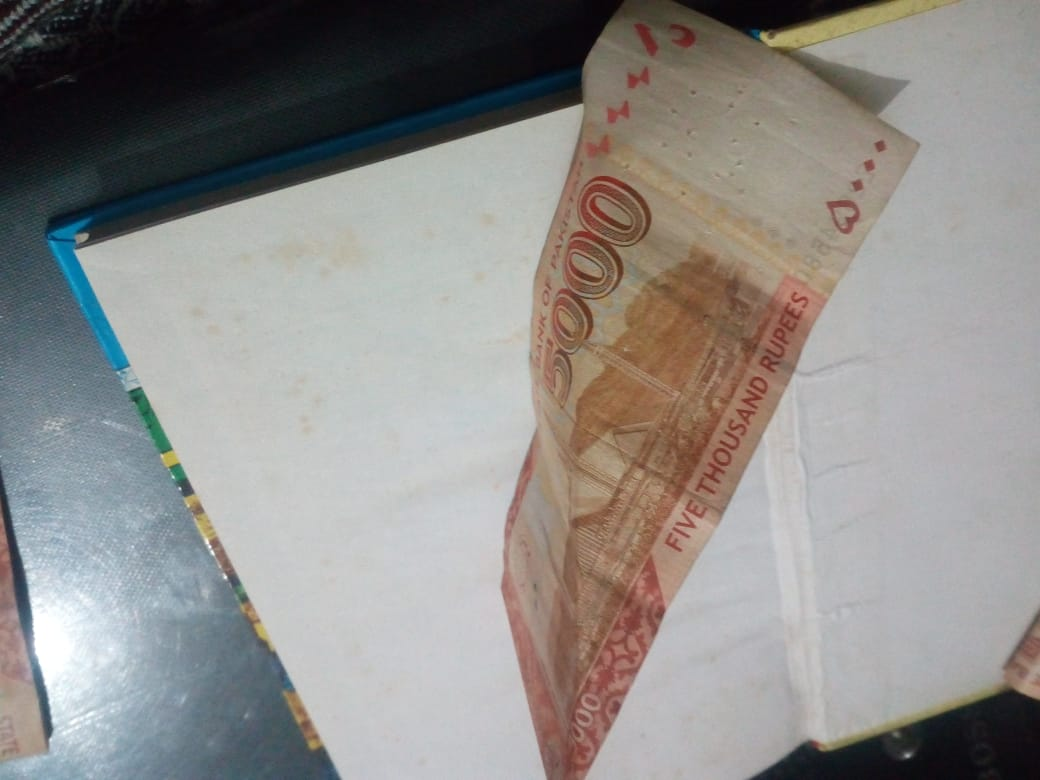5000 rupee: (434, 17, 978, 742)
